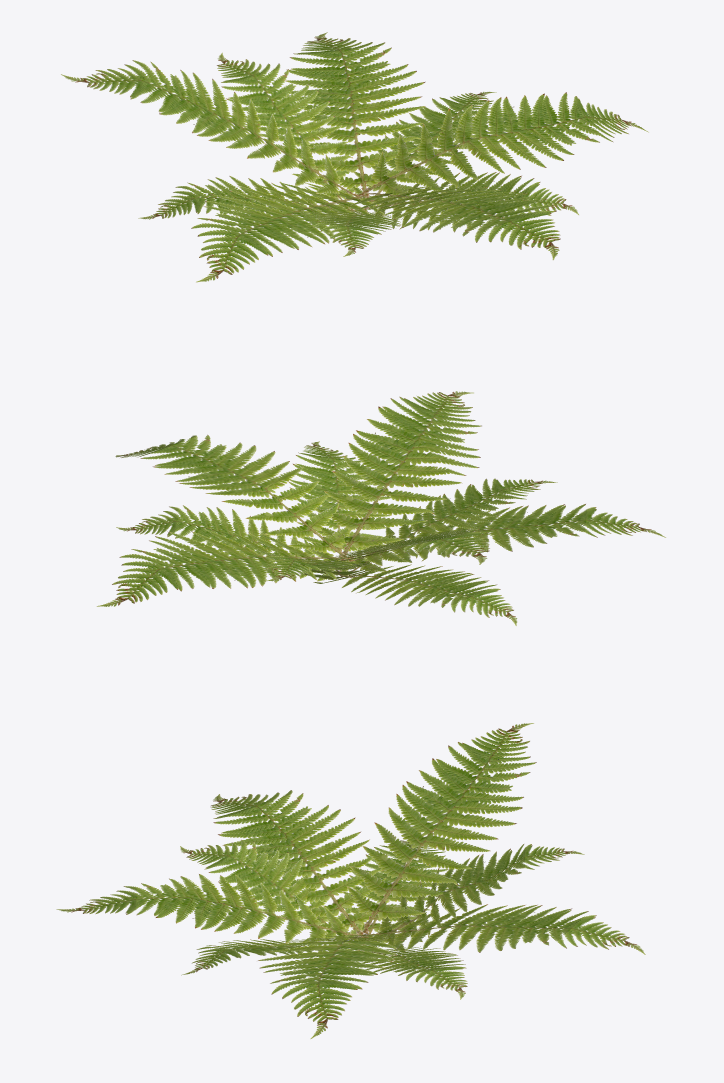
Rendered from Saniainen.fbx.
The picture shows the model from 3 angles, top to bottom: view 1: azimuth 30°, elevation 25°; view 2: azimuth 150°, elevation 25°; view 3: azimuth 270°, elevation 25°; orthographic projection. The views are drawn at different scales.
Parts seen in each view (by area): view 1: Saniainen; view 2: Saniainen; view 3: Saniainen.
Boxes of the visible parts, <box> form: Saniainen: <box>61,32,648,282</box>; Saniainen: <box>96,391,665,625</box>; Saniainen: <box>56,723,645,1039</box>.
Bounding box in the file's own units: 108 × 25.17 × 109.
